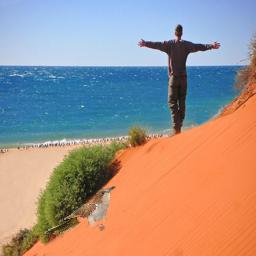Cuckoo: (44, 186, 116, 234)
